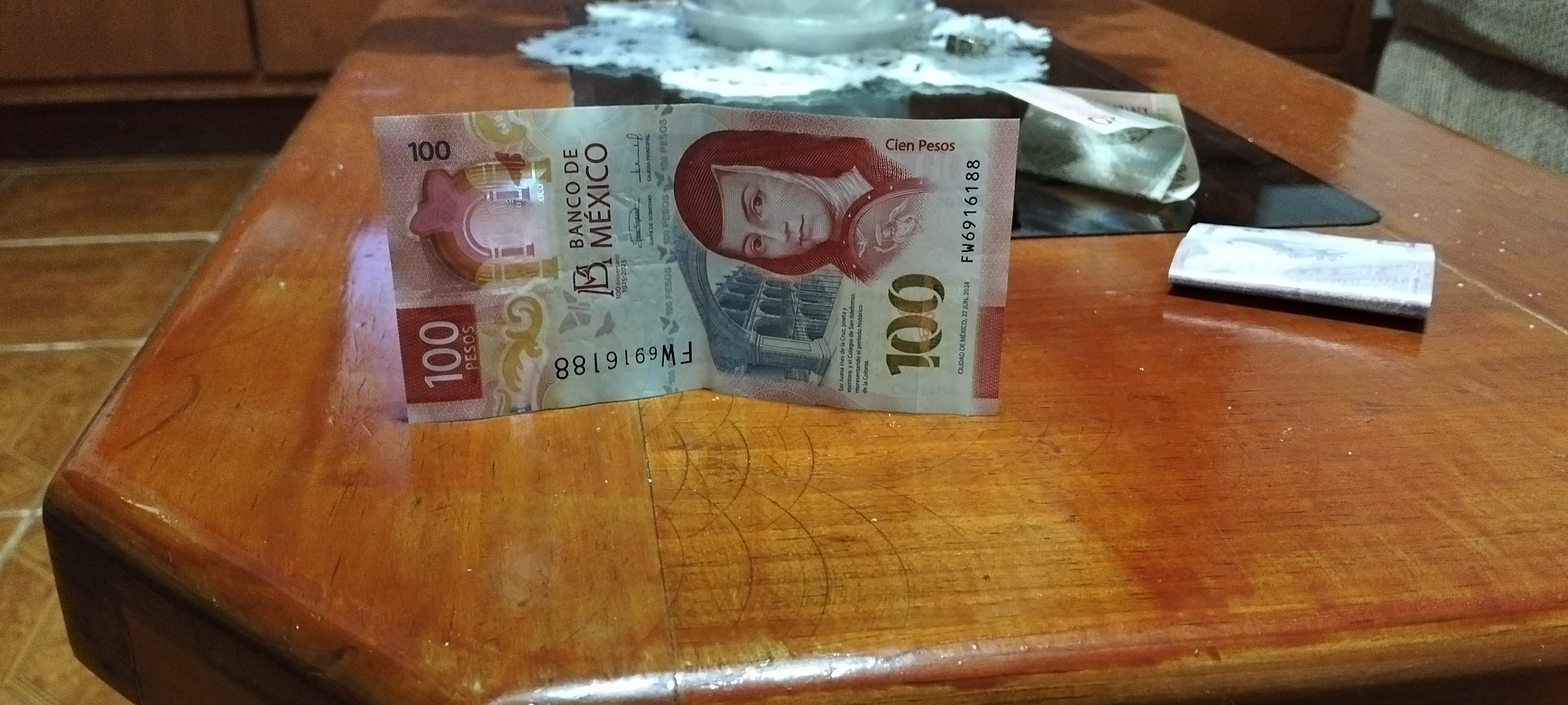billetes: (350, 86, 1048, 434)
